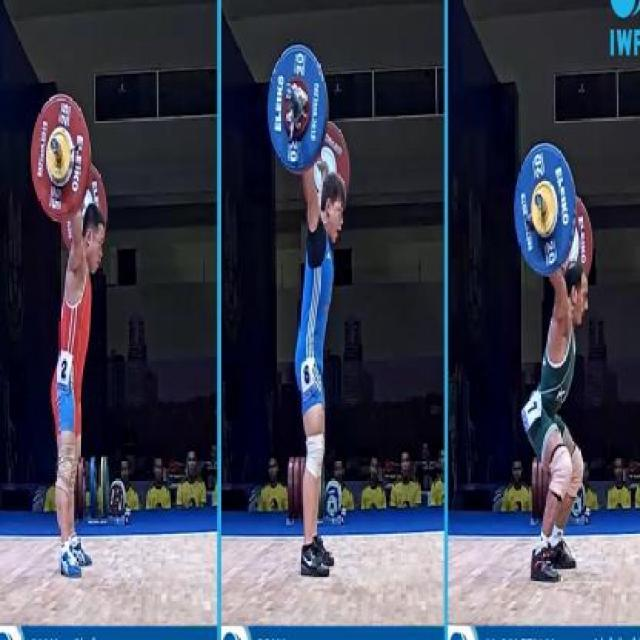Barbell: (282, 78, 296, 104), (532, 188, 545, 214), (49, 135, 60, 154)
